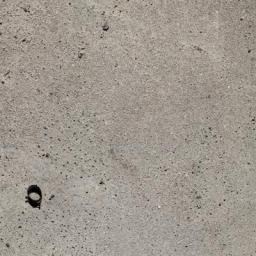FOD: (23, 180, 47, 211)
